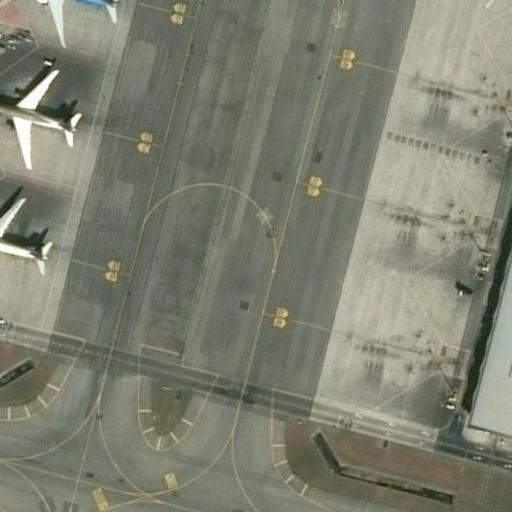Aircraft: (0, 65, 83, 165), (0, 183, 50, 297), (1, 0, 122, 39), (460, 0, 512, 6)
